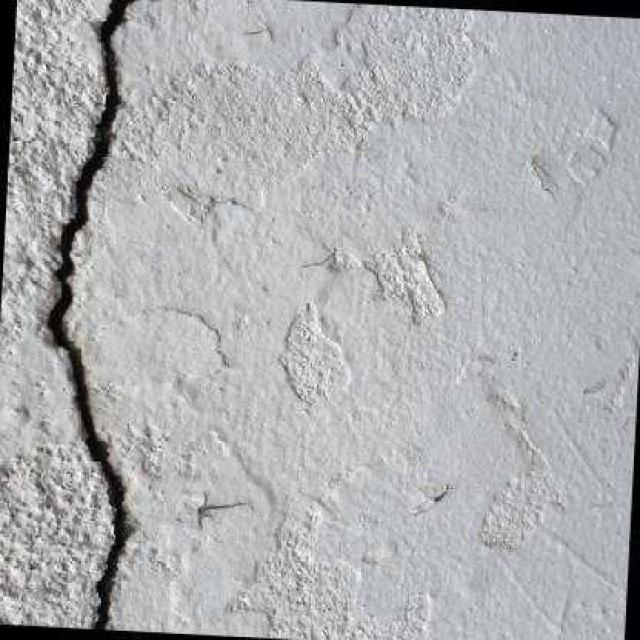D00: (43, 0, 136, 629)
